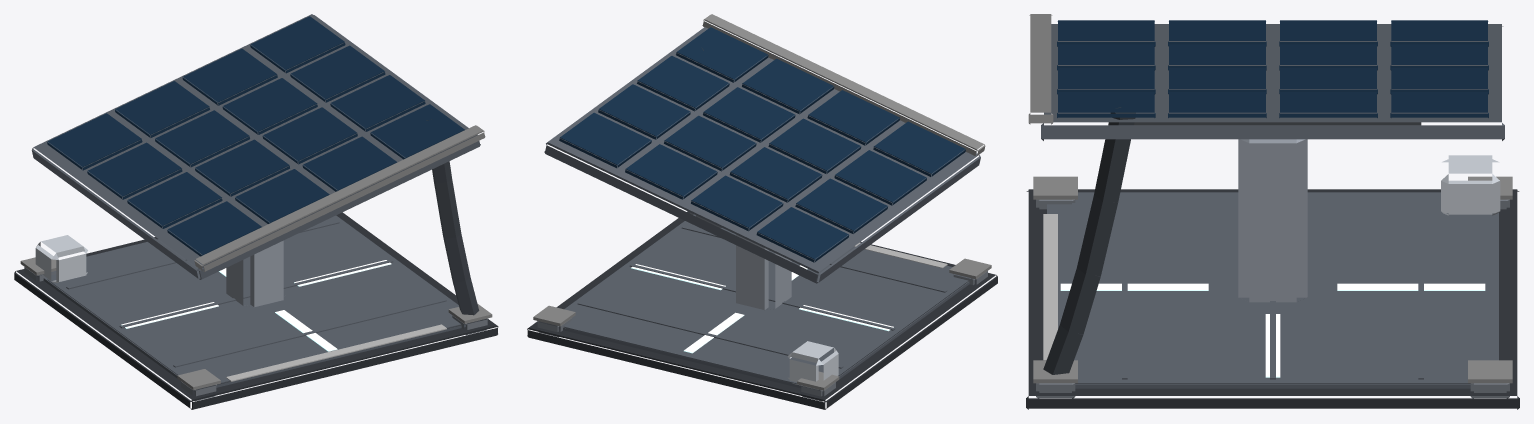
File: solar.glb
The picture shows the model from 3 angles, left to right: view 1: azimuth 30°, elevation 25°; view 2: azimuth 150°, elevation 25°; view 3: azimuth 270°, elevation 25°; orthographic projection. The views are drawn at different scales.
Visible parts, largest first — view 1: body; view 2: body; view 3: body.
Part boxes in pixels (<box>): body: <box>14,14,498,409</box>; body: <box>527,14,997,409</box>; body: <box>1026,14,1519,409</box>.
Bounding box in the file's own units: 64 × 41.21 × 64.
